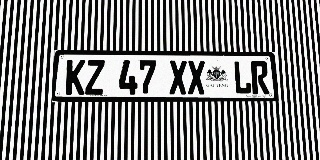4: (119, 60, 137, 95)
7: (138, 60, 156, 95)
K: (65, 60, 86, 95)
L: (233, 61, 252, 94)
R: (251, 61, 269, 94)
X: (187, 61, 206, 94), (169, 60, 187, 94)
Z: (85, 60, 105, 95)
